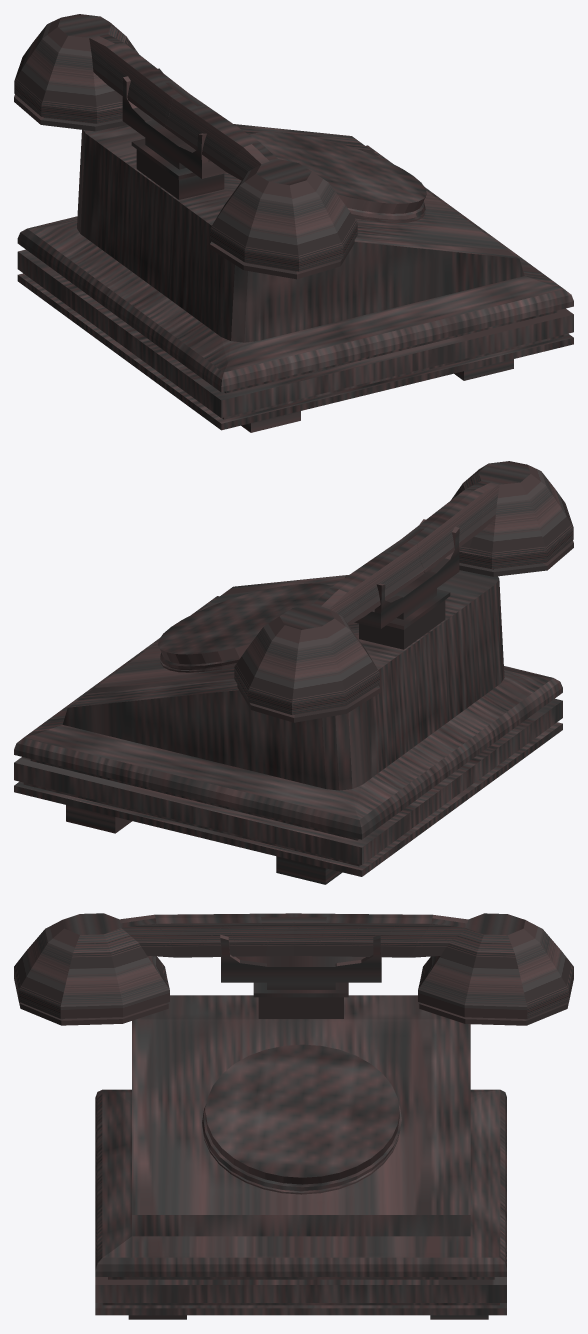
File: Telefono.obj
3 renders of one model, top to bottom at view 1: azimuth 30°, elevation 25°; view 2: azimuth 150°, elevation 25°; view 3: azimuth 270°, elevation 25°, orthographic. The views are drawn at different scales.
Parts seen in each view (by area): view 1: Cube_Cube.002, Cube.003_Cube.001, Circle, Cube.001_Cube.003, Cube.004, Cube.006; view 2: Cube_Cube.002, Cube.003_Cube.001, Circle, Cube.001_Cube.003, Cube.002_Cube, Cube.005; view 3: Cube_Cube.002, Cube.003_Cube.001, Circle, Cube.001_Cube.003.
Part boxes in pixels (x1=…): Cube_Cube.002: x1=17, y1=124, x2=573, y2=430; Cube.003_Cube.001: x1=14, y1=14, x2=357, y2=279; Circle: x1=250, y1=132, x2=426, y2=223; Cube.001_Cube.003: x1=122, y1=68, x2=238, y2=199; Cube.004: x1=241, y1=411, x2=300, y2=432; Cube.006: x1=454, y1=359, x2=513, y2=380; Cube_Cube.002: x1=14, y1=570, x2=562, y2=876; Cube.003_Cube.001: x1=234, y1=461, x2=573, y2=722; Circle: x1=158, y1=583, x2=332, y2=672; Cube.001_Cube.003: x1=345, y1=519, x2=459, y2=649; Cube.002_Cube: x1=276, y1=856, x2=342, y2=884; Cube.005: x1=66, y1=805, x2=132, y2=833; Cube_Cube.002: x1=95, y1=995, x2=506, y2=1315; Cube.003_Cube.001: x1=14, y1=913, x2=573, y2=1025; Circle: x1=202, y1=1044, x2=401, y2=1194; Cube.001_Cube.003: x1=220, y1=934, x2=381, y2=1018.
Bounding box in the file's own units: 0.3 × 0.2242 × 0.4081.
1 material, 1 textured.
